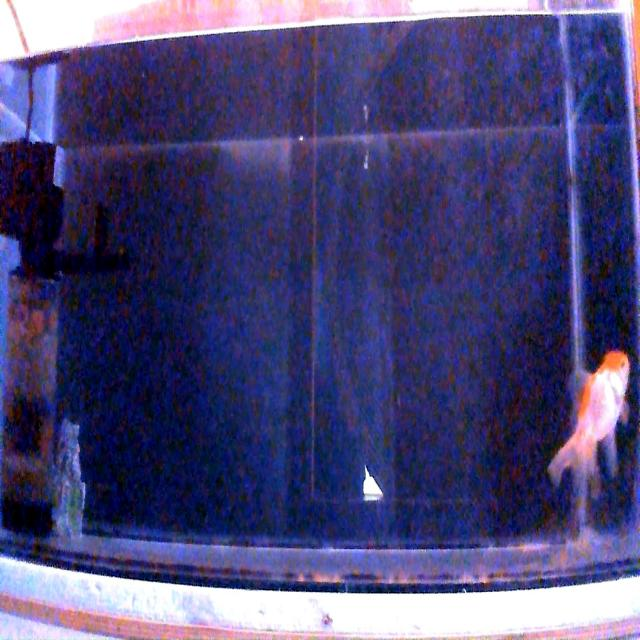fish: (546, 350, 630, 508)
